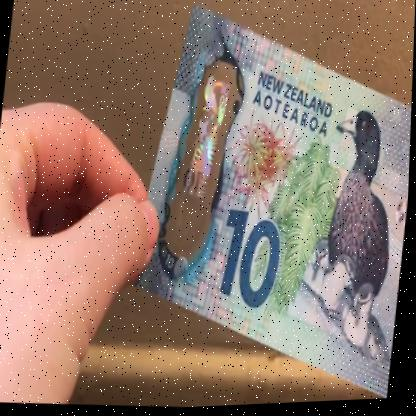10F: (174, 68, 235, 249)
